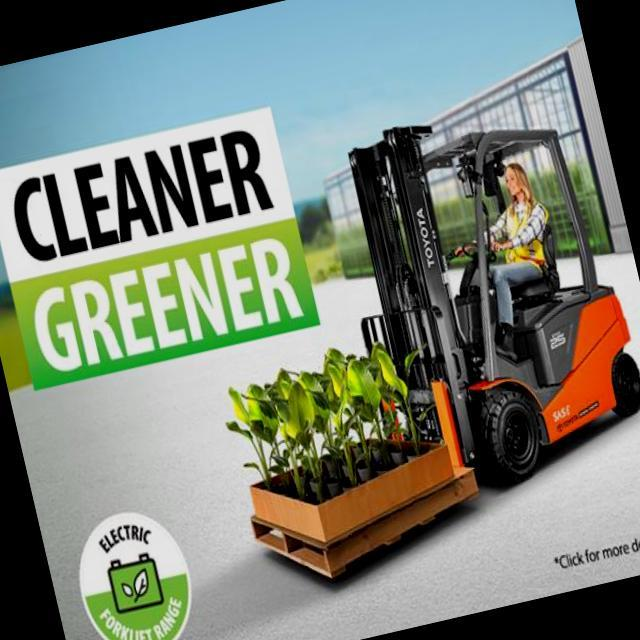driver: (461, 152, 583, 364)
forklift: (328, 57, 640, 518)
